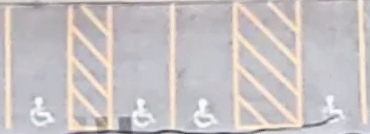Occupied: (235, 3, 299, 127)
Vacant: (299, 1, 365, 126), (173, 5, 238, 128), (110, 4, 173, 129), (8, 5, 70, 128)
